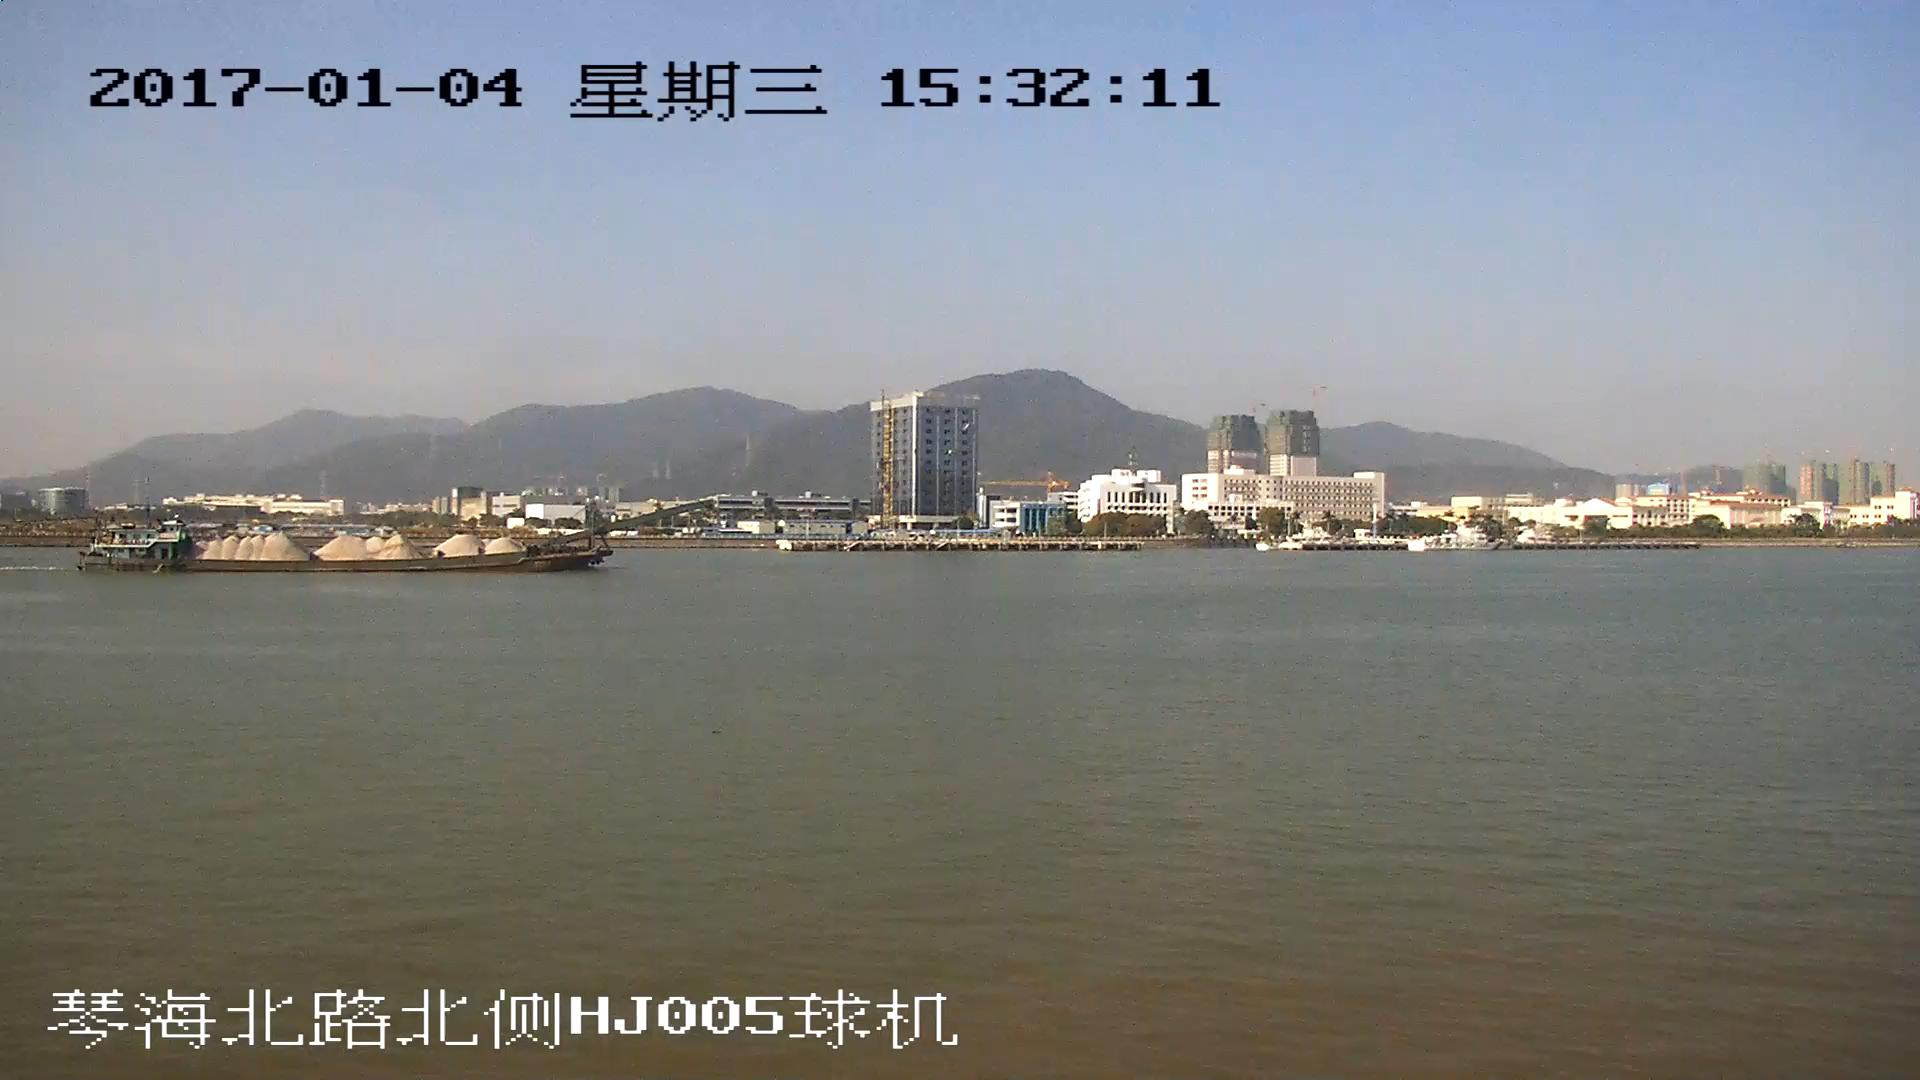ore carrier: (75, 498, 714, 575)
